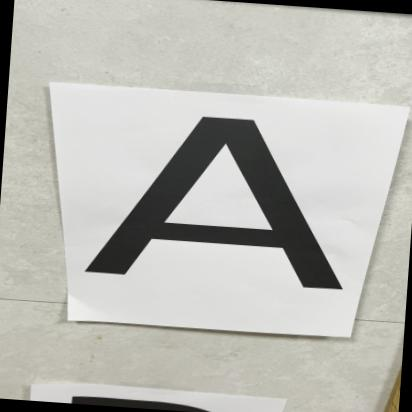seat: (61, 87, 368, 323)
